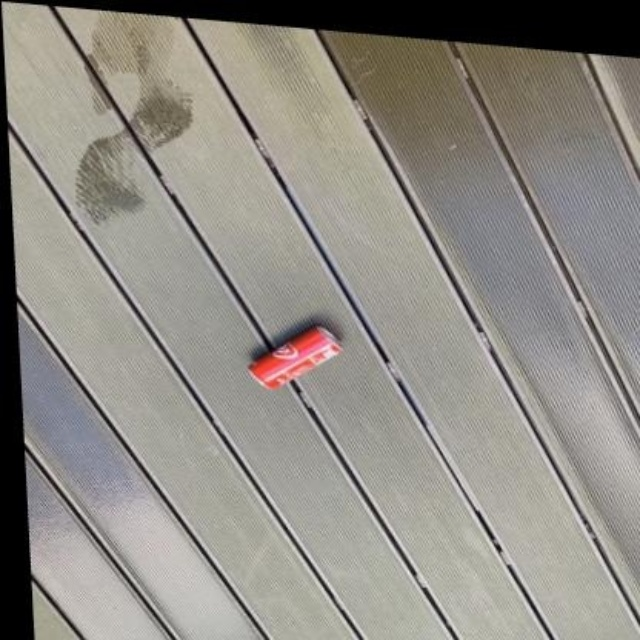trash: (248, 326, 340, 388)
